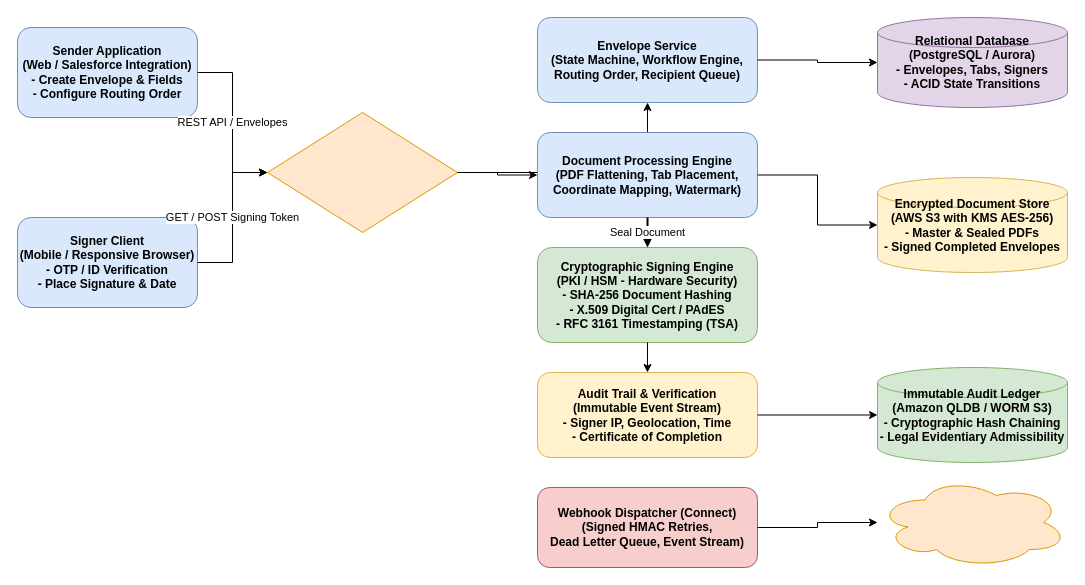
Image size: 1085x585. Some labels were removed from this diagram. The shapes that lost their labels are listed below. From the top down, each one's centre as x and y in pixels, then its label:
At pixel 362 172: "API Gateway / Envoy (Auth, TLS 1.3, Rate Limit, WAF, Session Validation)".
At pixel 972 522: "Enterprise CRM / Webhook (Salesforce, SAP, HRIS) - Completed Document Callback".
